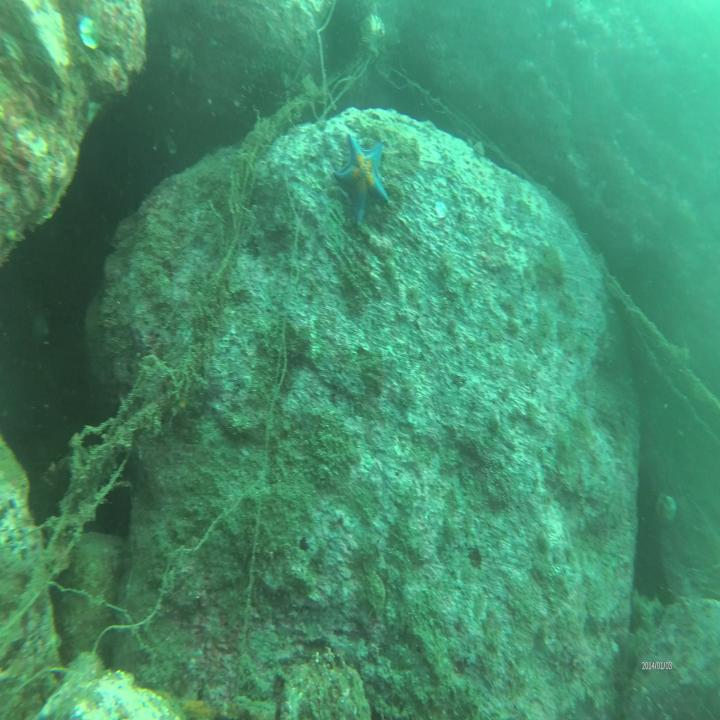starfish: (334, 130, 395, 234)
